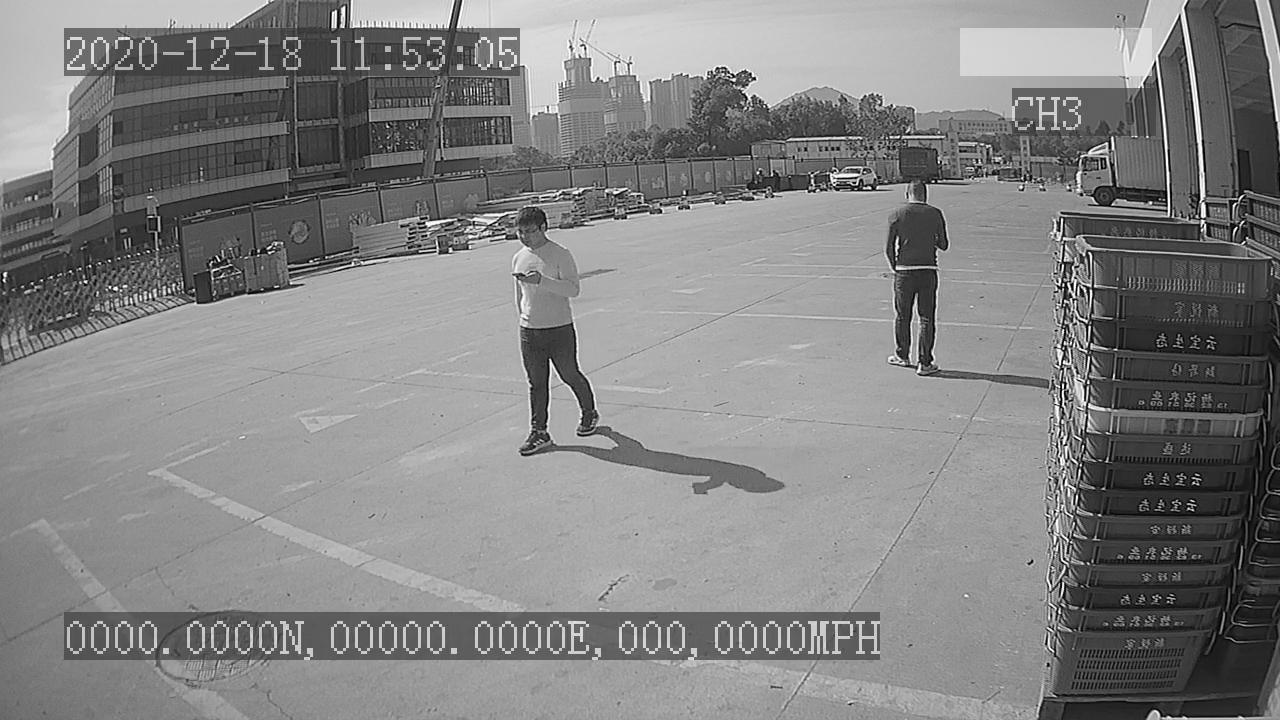person: (493, 197, 609, 461), (876, 172, 956, 383)
